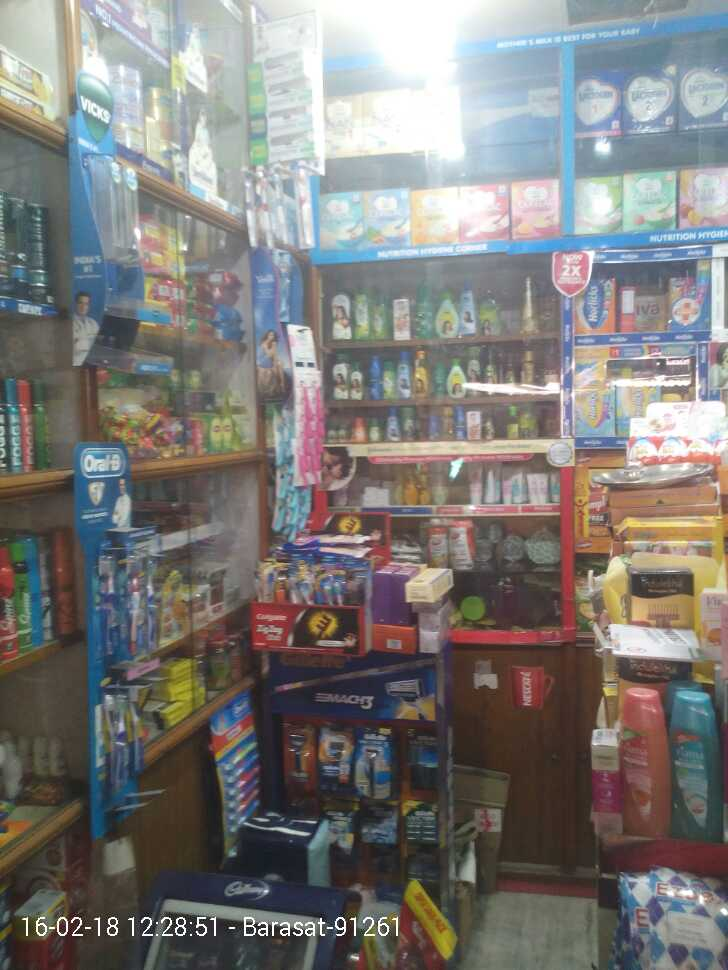gillette: (356, 730, 392, 803), (401, 795, 443, 854), (318, 728, 351, 801), (283, 727, 316, 797), (359, 807, 400, 847)
